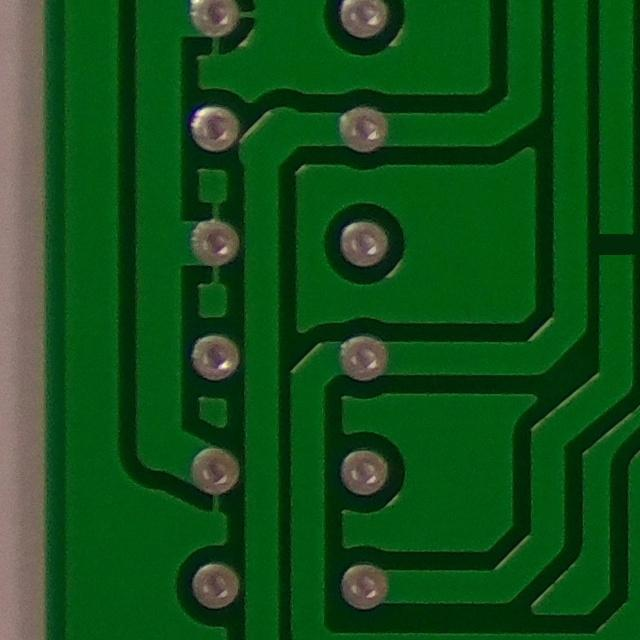open_circuit: (591, 222, 640, 269)
